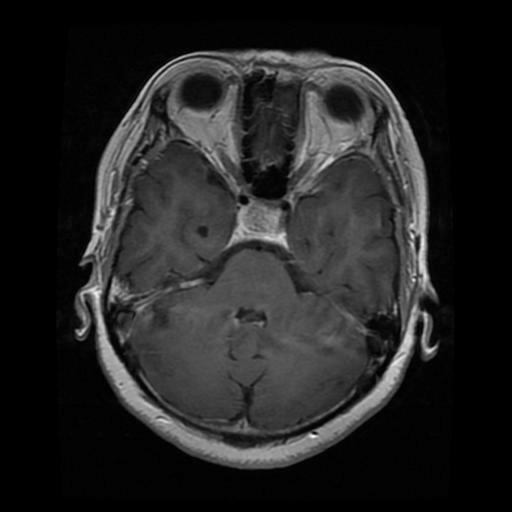Tumour-Pituitary: (230, 199, 292, 245)
